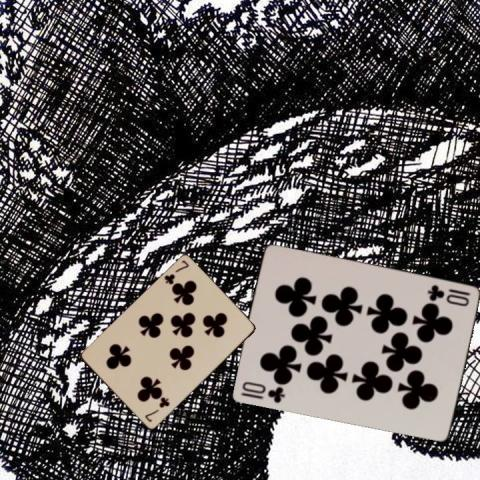10c: (239, 378, 286, 404), (424, 282, 471, 307)
7c: (161, 257, 191, 287), (142, 396, 171, 424)
